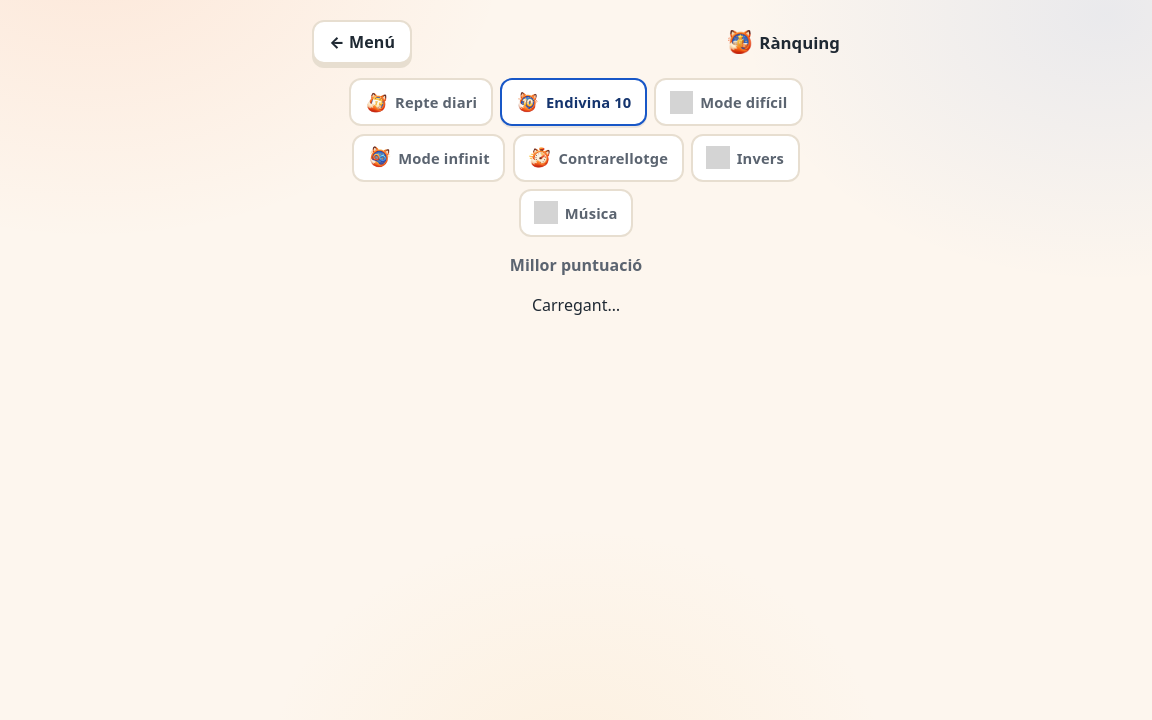
Scenario: RankingScreen component › renderitza el títol, la barra de modes i la llista de líders
Expected: the text "Rànquing" is shown, left=728, top=30, right=840, bottom=54
// Botó per sortir
Click the button "← Menú". click: {"x": 362, "y": 42}
box: left=312, top=20, right=412, bottom=64
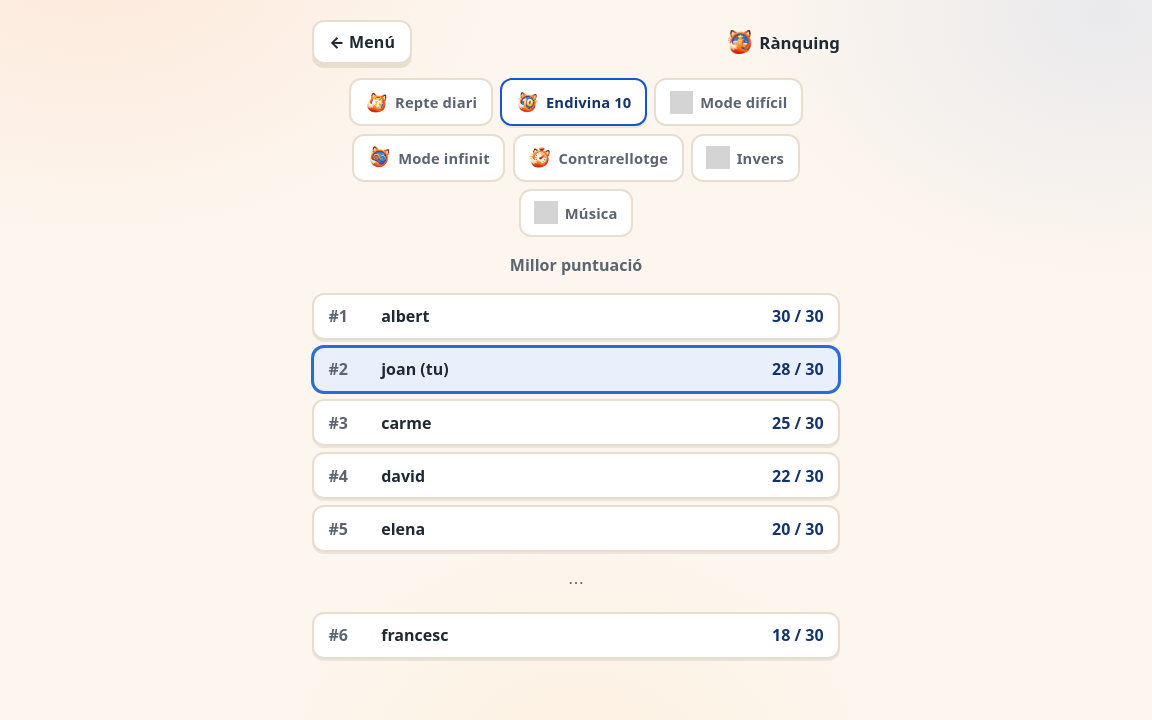
Result: the text "albert" is shown at left=381, top=305, right=430, bottom=327
Result: the text "joan (tu)" is shown at left=381, top=358, right=449, bottom=380
Result: the text "#1" is shown at left=328, top=305, right=348, bottom=327
